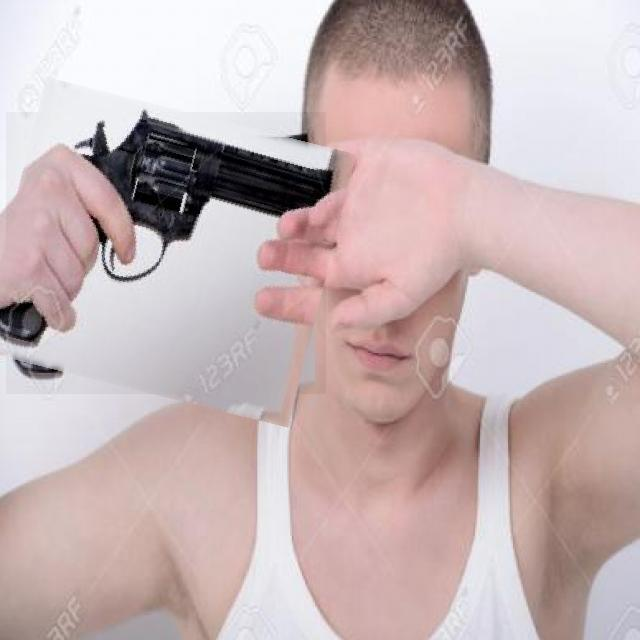handgun: (0, 94, 341, 411)
